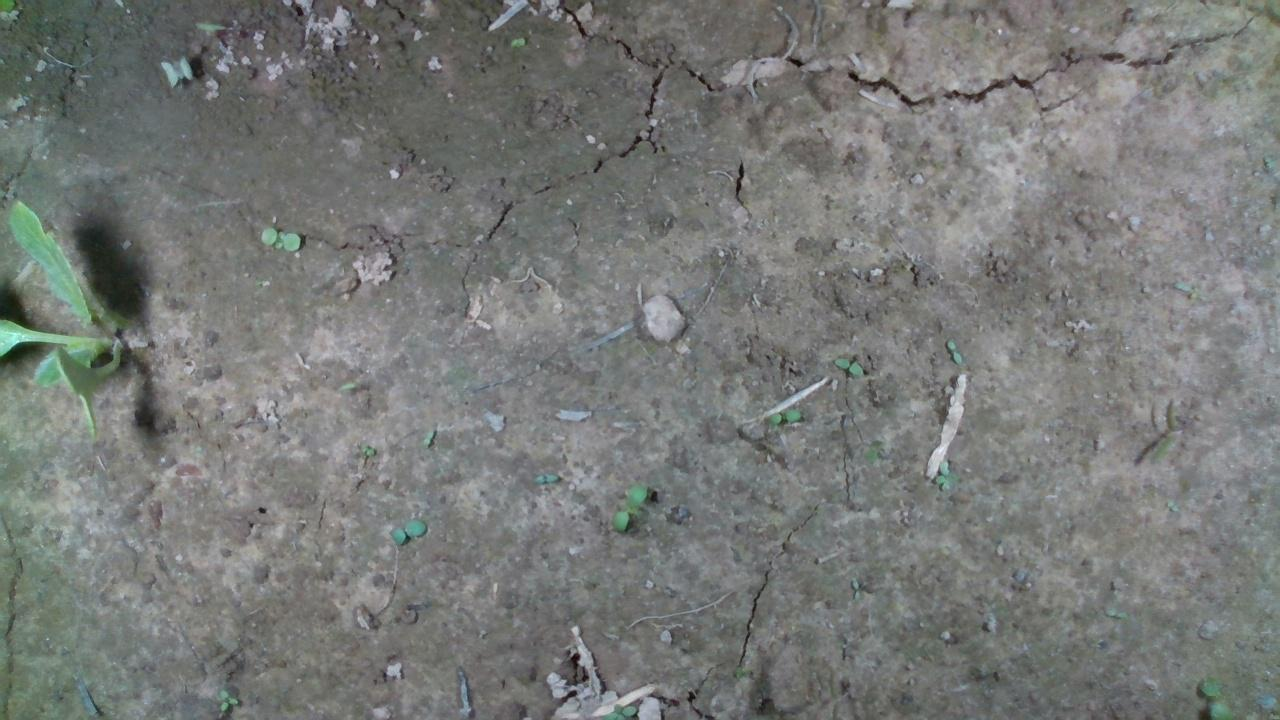weed: (610, 482, 648, 534), (386, 515, 428, 546), (257, 223, 302, 251), (832, 354, 864, 377), (216, 687, 240, 711), (944, 339, 963, 365), (530, 471, 558, 485), (421, 425, 435, 446), (358, 441, 375, 455), (1188, 283, 1200, 301)
